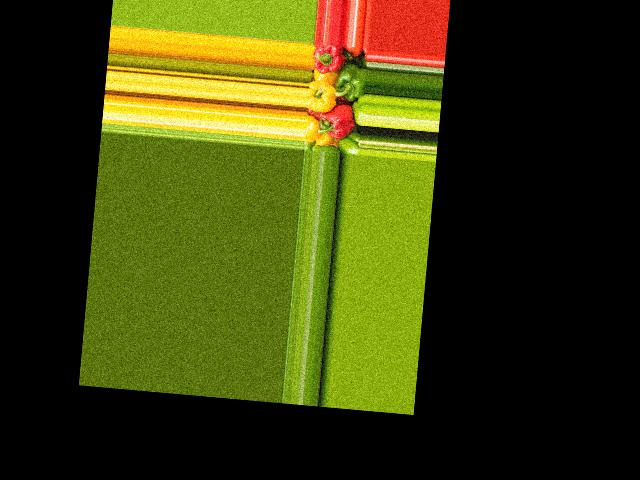bell_pepper: (311, 43, 347, 79)
